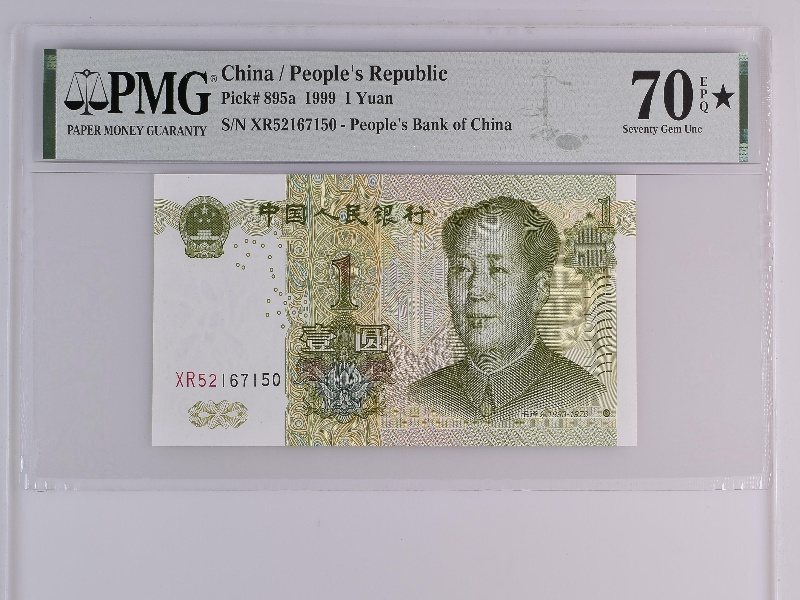papernote: (154, 171, 639, 448)
